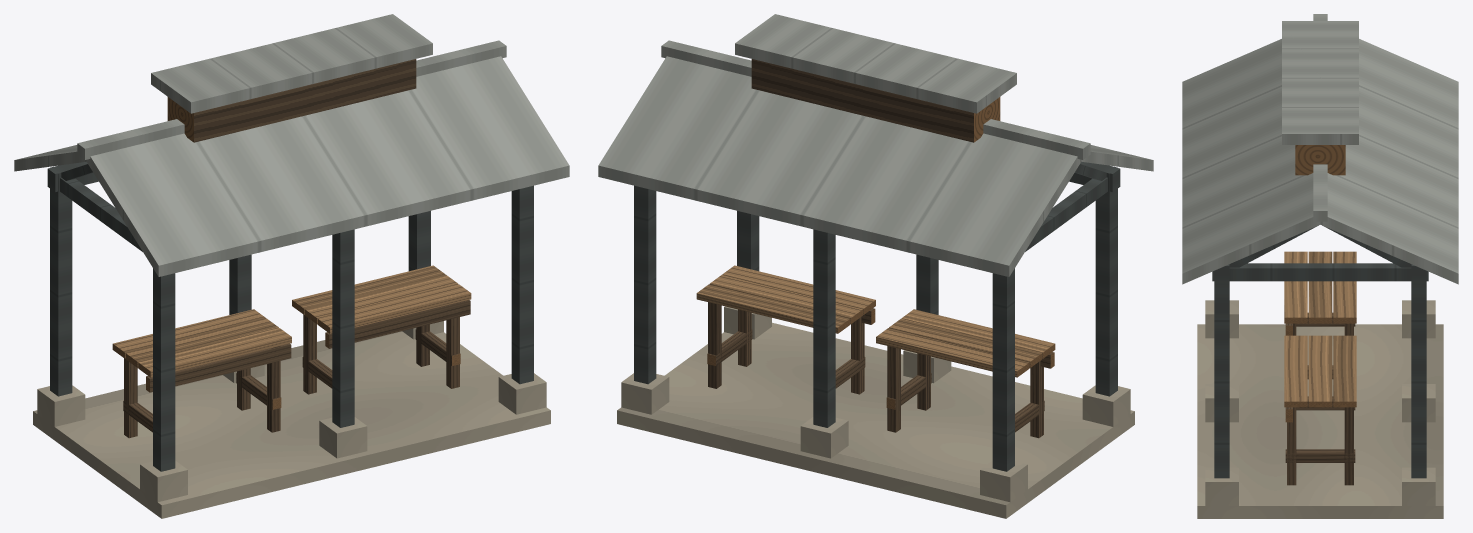
Rendered from khartoum.glb.
The picture shows the model from 3 angles, left to right: view 1: azimuth 30°, elevation 25°; view 2: azimuth 150°, elevation 25°; view 3: azimuth 270°, elevation 25°; orthographic projection. The views are drawn at different scales.
Parts seen in each view (by area): view 1: khartoum; view 2: khartoum; view 3: khartoum.
Boxes of the visible parts, <box> form: khartoum: <box>14,14,569,518</box>; khartoum: <box>598,14,1153,518</box>; khartoum: <box>1182,14,1458,518</box>.
Size of the model in its own units: 3.01 by 2.5 by 1.79.
Materials: 1 (1 with a texture image).
